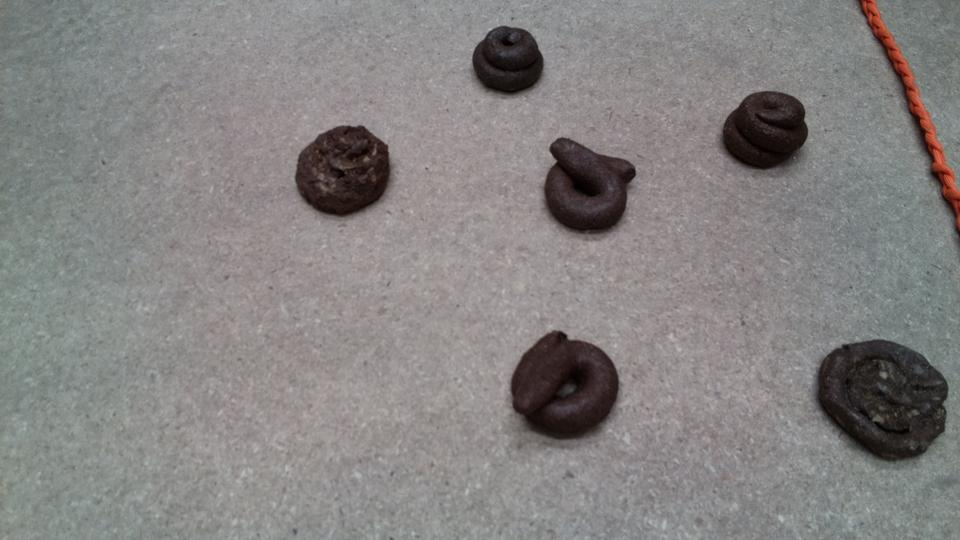poop: (815, 334, 950, 466), (506, 326, 625, 444), (541, 133, 641, 236), (292, 121, 396, 220), (717, 86, 812, 174), (469, 22, 550, 98)
rope: (858, 1, 960, 240)
